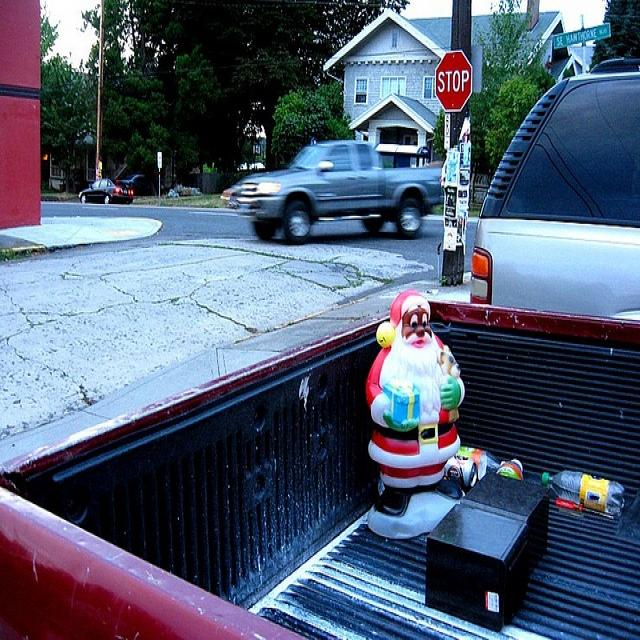car: (466, 58, 639, 318), (75, 178, 131, 202)
truck: (2, 298, 637, 630), (220, 142, 444, 242)
